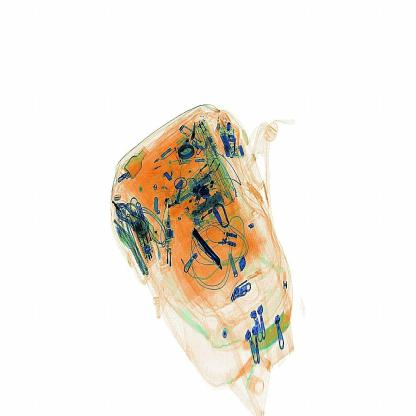knife: (186, 222, 233, 279)
